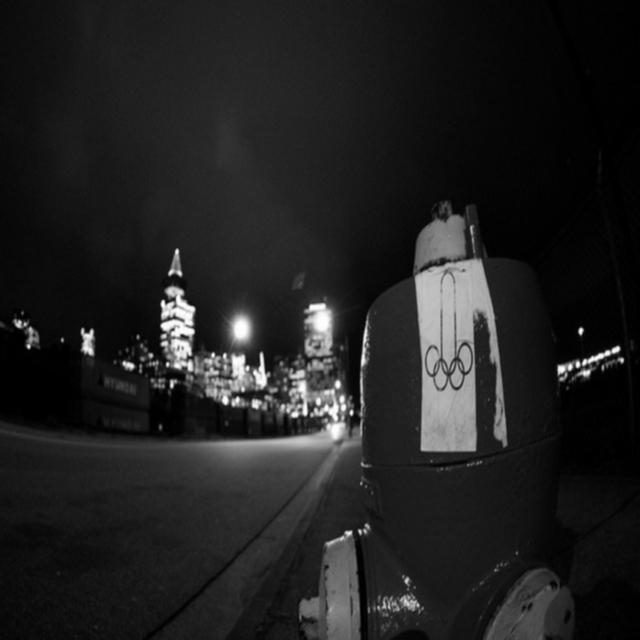fire_hydrant: (295, 191, 579, 631)
